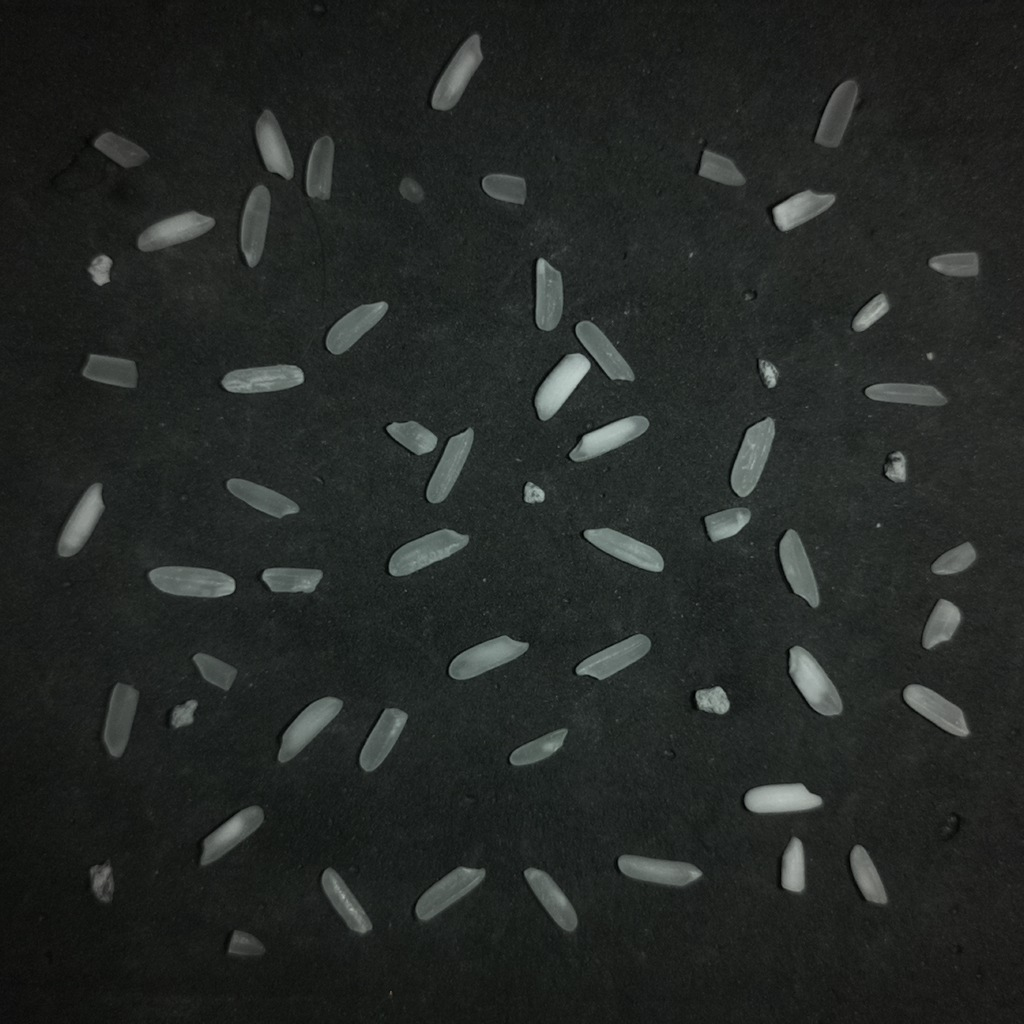broken: (814, 80, 857, 147), (93, 131, 148, 168), (81, 354, 137, 388), (305, 135, 334, 200), (698, 149, 745, 186), (192, 652, 236, 691), (261, 567, 322, 593), (481, 173, 526, 204), (928, 252, 980, 278), (227, 929, 265, 957), (399, 176, 424, 203)
chalky: (277, 697, 342, 762), (431, 34, 483, 111), (415, 867, 485, 921), (200, 805, 263, 865), (388, 529, 468, 576), (534, 353, 590, 420), (568, 415, 649, 461), (426, 428, 475, 504), (789, 646, 842, 715), (730, 417, 775, 498), (448, 635, 528, 680), (57, 483, 105, 557), (523, 867, 577, 932), (902, 684, 969, 736), (584, 529, 663, 572), (325, 301, 388, 354), (321, 868, 371, 934), (137, 210, 214, 251), (148, 566, 234, 598), (255, 110, 294, 180), (617, 855, 702, 887), (772, 190, 835, 231), (221, 364, 303, 393), (743, 784, 822, 813), (849, 844, 887, 904), (509, 728, 567, 765), (922, 599, 961, 649), (386, 422, 437, 455), (703, 507, 750, 541), (851, 293, 890, 332), (930, 542, 976, 575), (780, 837, 805, 893), (694, 686, 729, 714), (883, 451, 906, 482), (758, 359, 779, 388)
foreign: (90, 862, 113, 902), (169, 699, 197, 728), (88, 254, 112, 285), (524, 481, 543, 502)
whole: (575, 320, 634, 381), (576, 633, 650, 679), (779, 529, 819, 607), (359, 708, 406, 772), (226, 478, 298, 518), (102, 683, 138, 757), (240, 185, 270, 267), (864, 382, 947, 406), (535, 258, 562, 331)
